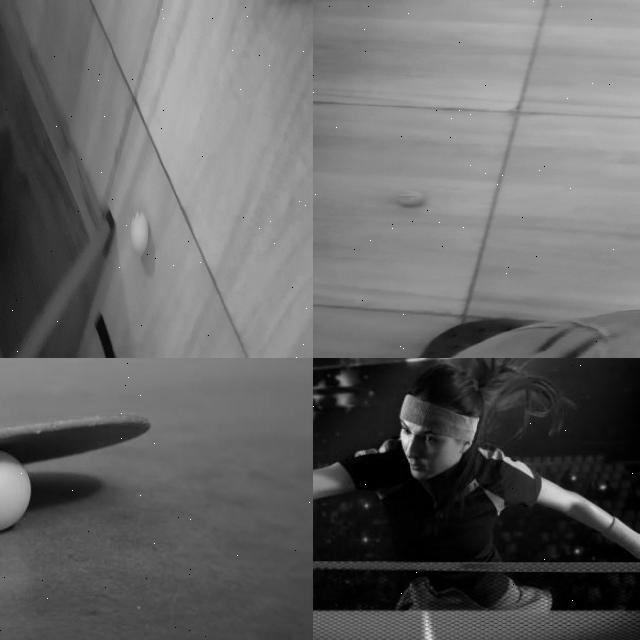ping-pong-ball: (0, 449, 30, 533), (130, 211, 148, 257), (398, 190, 420, 204)
